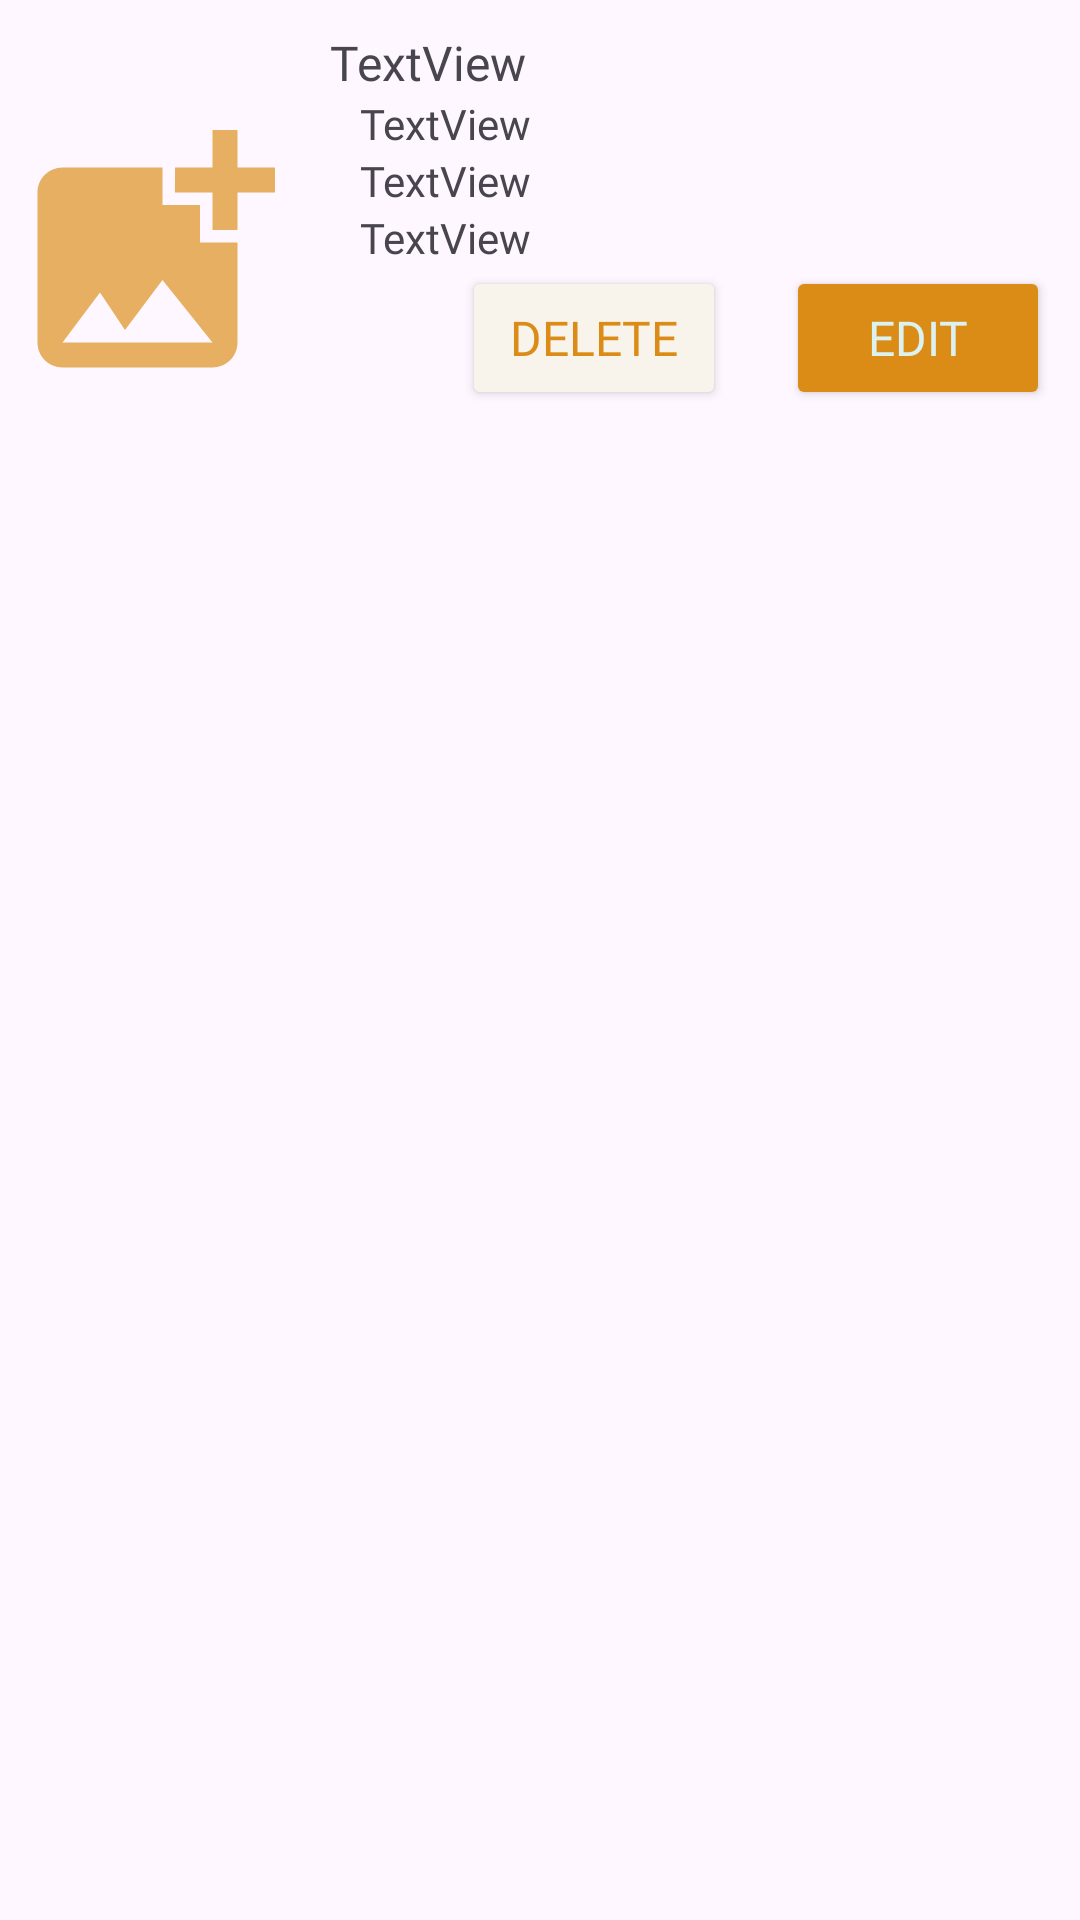

Where to tap for icons on this 1080*1920 app screen, as (x,y):
add photo alternate: (156,249)
